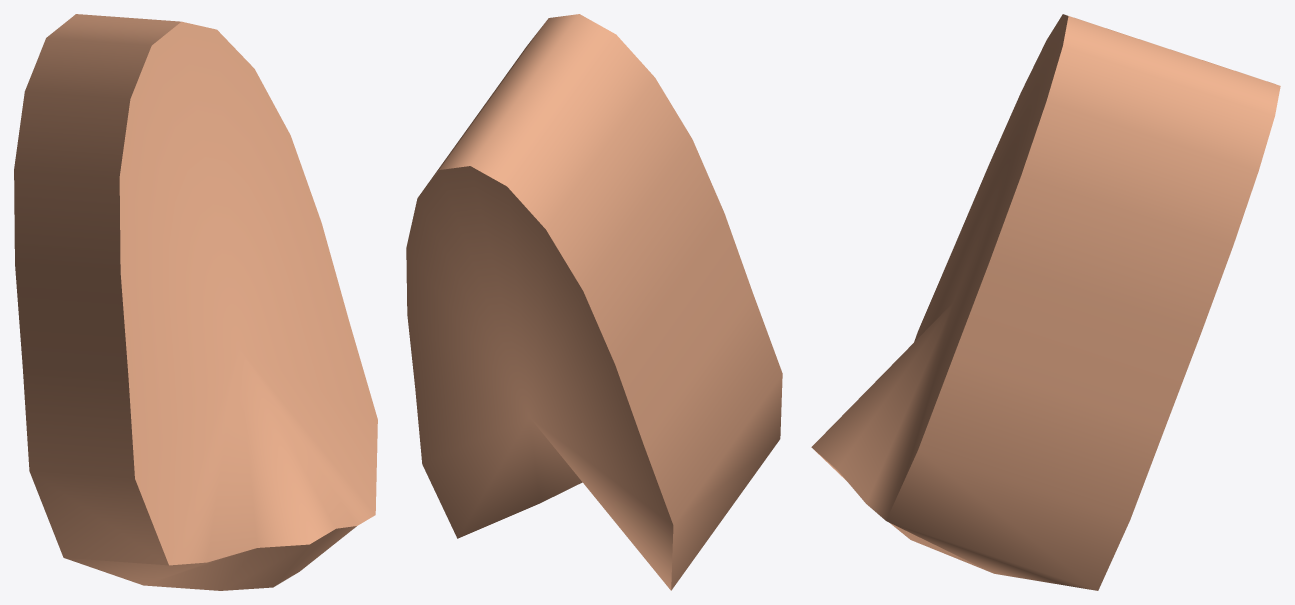
The model's file is nose.obj.
3 views of the same model, side by side, from view 1: azimuth 30°, elevation 25°; view 2: azimuth 150°, elevation 25°; view 3: azimuth 270°, elevation 25° (orthographic). The views are drawn at different scales.
Visible parts, largest first — view 1: superman:pCylinder17; view 2: superman:pCylinder17; view 3: superman:pCylinder17.
Boxes of the visible parts, x1,y1,x2,y2 form: superman:pCylinder17: (14, 14, 377, 590); superman:pCylinder17: (406, 14, 782, 590); superman:pCylinder17: (811, 14, 1280, 590).
Size of the model in its own units: 0.1488 by 0.3054 by 0.2478.
